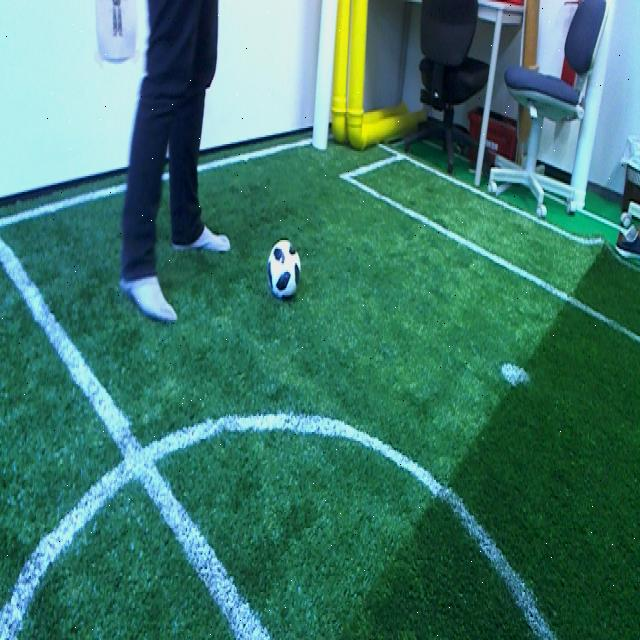ball: (267, 242, 302, 300)
goalpost: (567, 0, 617, 206), (310, 3, 339, 148)
